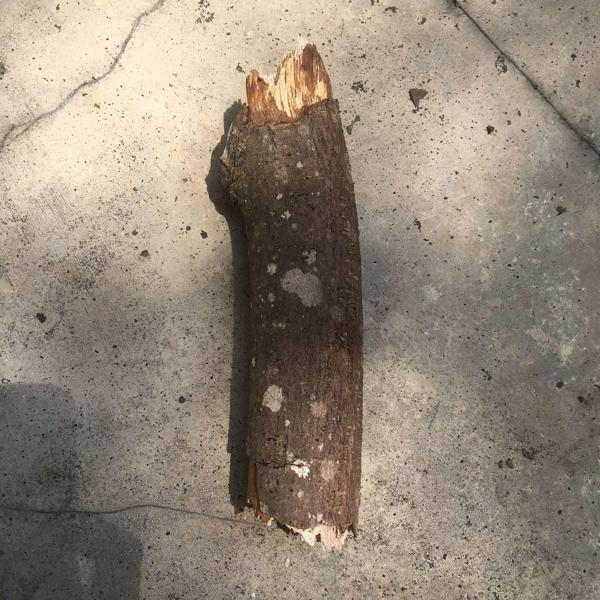Organik: (207, 43, 395, 552)
